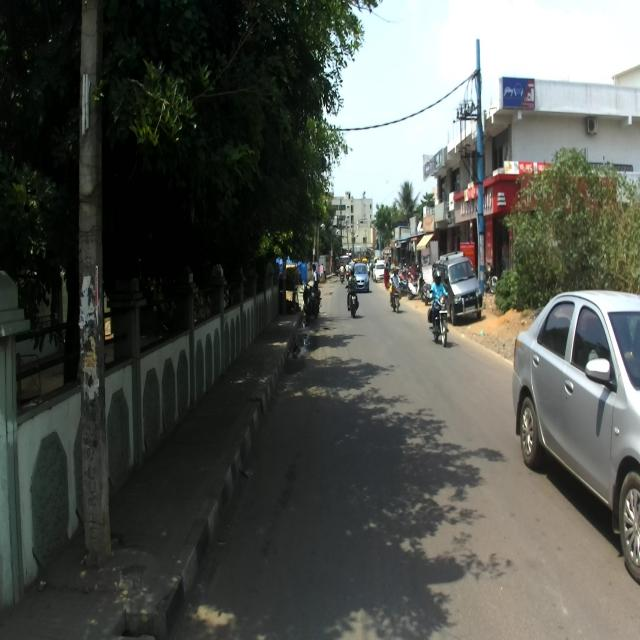Car_Toyota: (514, 289, 640, 582)
